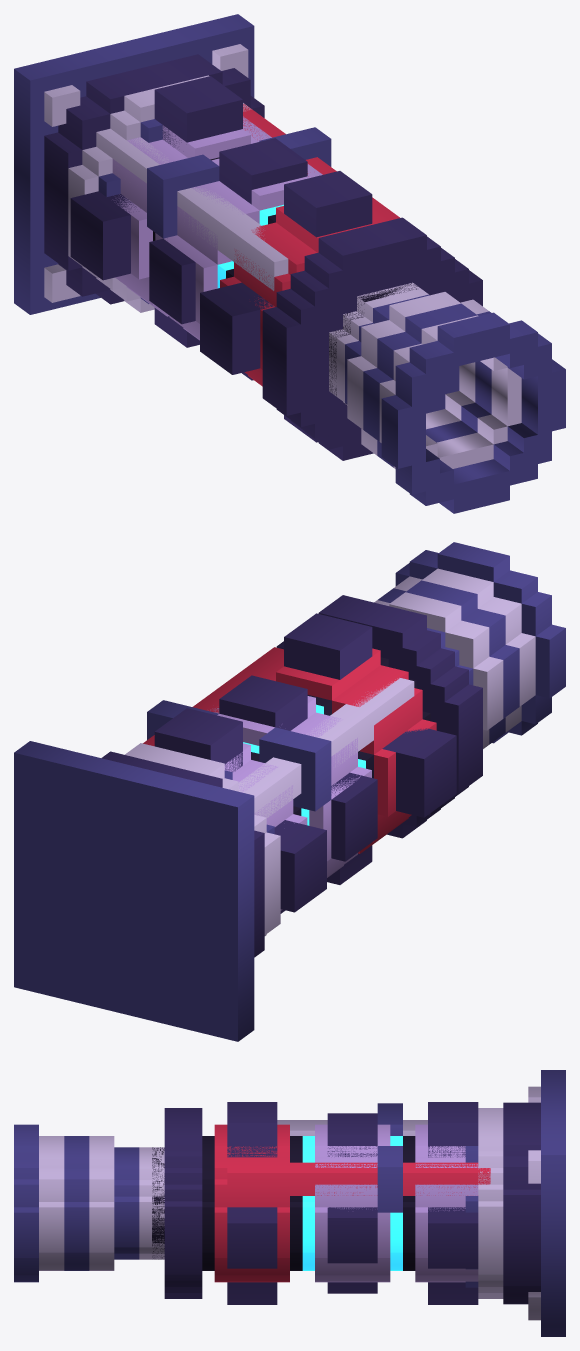
Rendered from ion-drive.sm.glb.
3 views of the same model, one above another, from view 1: azimuth 30°, elevation 25°; view 2: azimuth 150°, elevation 25°; view 3: azimuth 270°, elevation 25° (orthographic). The views are drawn at different scales.
Parts seen in each view (by area): view 1: ion-drive.sm; view 2: ion-drive.sm; view 3: ion-drive.sm.
Part boxes in pixels (x1=…): ion-drive.sm: x1=14, y1=14, x2=565, y2=513; ion-drive.sm: x1=14, y1=542, x2=565, y2=1041; ion-drive.sm: x1=14, y1=1070, x2=565, y2=1336.
Bounding box in the file's own units: 1 × 1 × 2.75.
